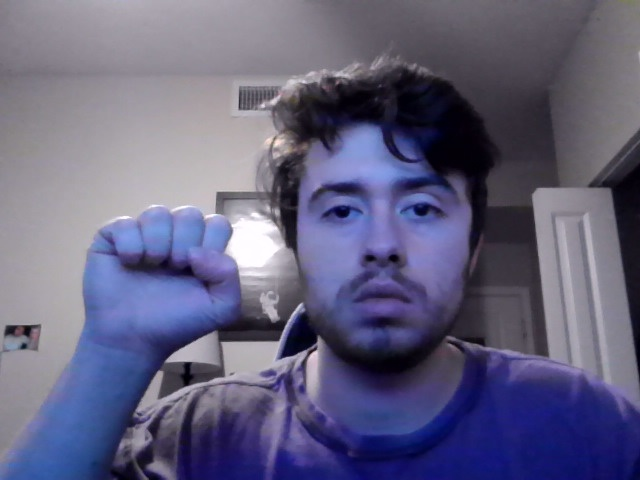e: (82, 203, 243, 358)
